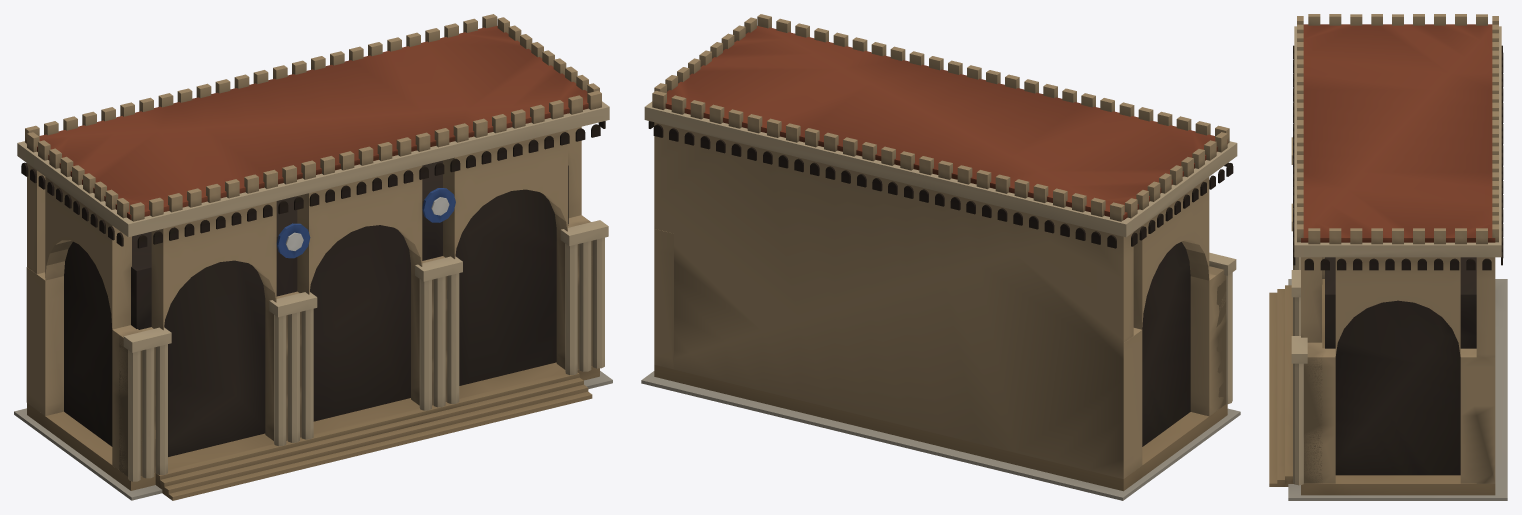
Rendered from loggia-lanzi.glb.
The picture shows the model from 3 angles, left to right: view 1: azimuth 30°, elevation 25°; view 2: azimuth 150°, elevation 25°; view 3: azimuth 270°, elevation 25°; orthographic projection. The views are drawn at different scales.
Visible parts, largest first — view 1: p0_platform, p2_terrace, p1_arches; view 2: p0_platform, p2_terrace, p1_arches; view 3: p2_terrace, p0_platform, p1_arches.
Part boxes in pixels (left/top/right/bottom): p0_platform: left=14, top=160, right=612, bottom=500; p2_terrace: left=17, top=14, right=609, bottom=248; p1_arches: left=26, top=126, right=608, bottom=481; p0_platform: left=641, top=122, right=1240, bottom=500; p2_terrace: left=644, top=14, right=1237, bottom=248; p1_arches: left=654, top=177, right=1236, bottom=478; p2_terrace: left=1293, top=14, right=1503, bottom=270; p0_platform: left=1269, top=257, right=1507, bottom=500; p1_arches: left=1291, top=137, right=1495, bottom=485.
Size of the model in its own units: 39.22 by 22.34 by 17.95.
